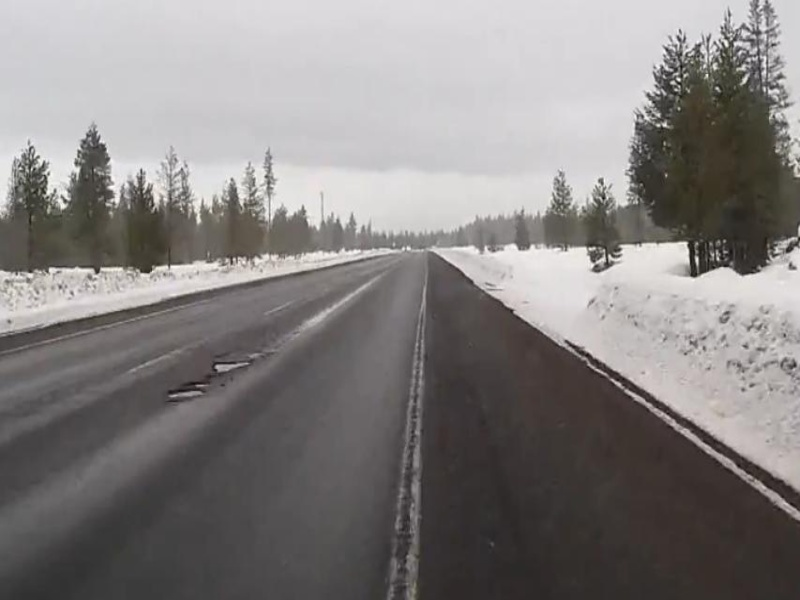pothole: (157, 383, 210, 407), (207, 353, 254, 377)
